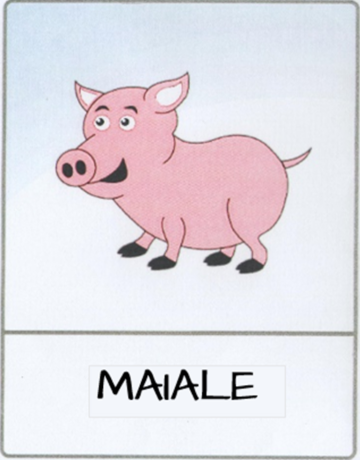maiale: (34, 25, 325, 436)
